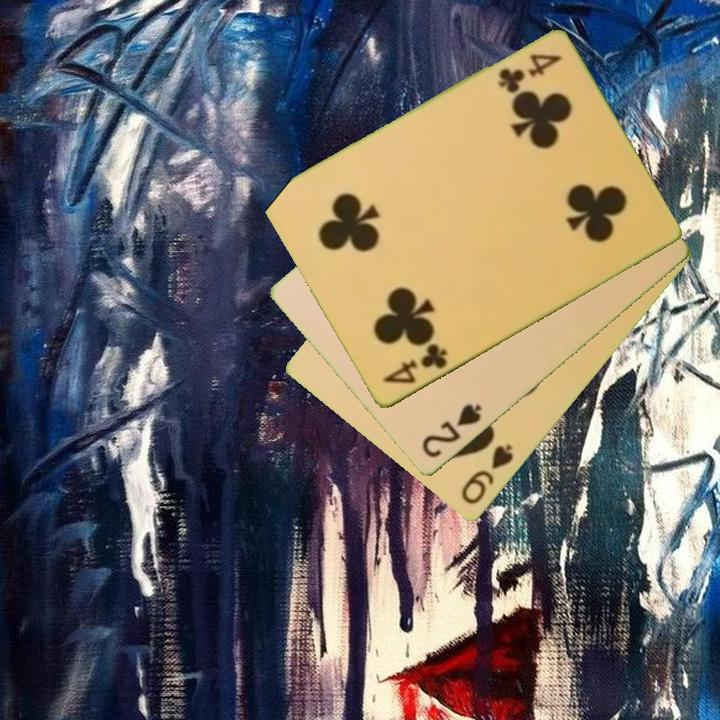2s: (418, 400, 485, 462)
4c: (378, 340, 450, 388), (494, 50, 565, 96)
9s: (457, 441, 517, 509)
